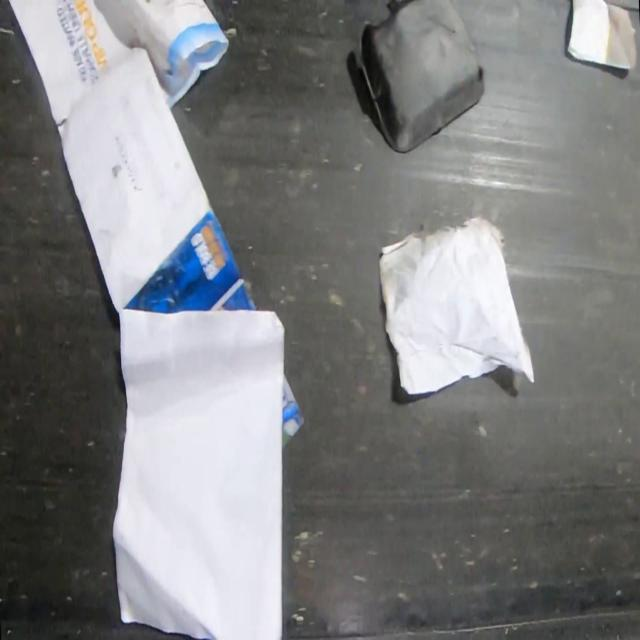rigid_plastic: (357, 0, 486, 155)
